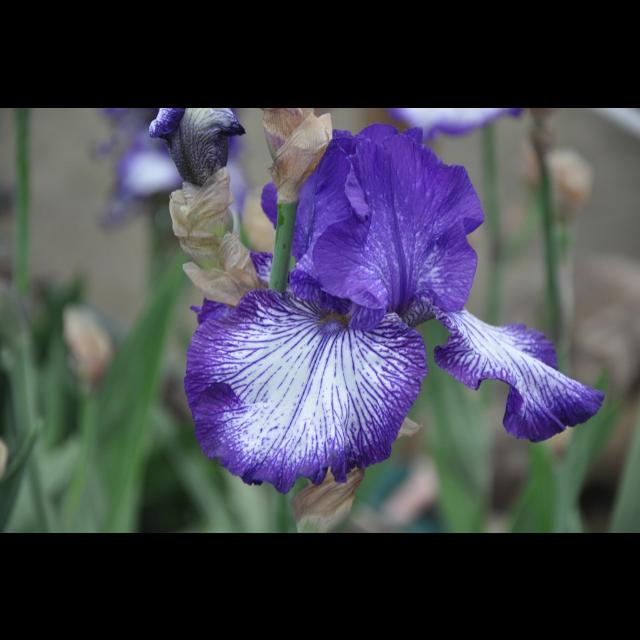Flower: (164, 137, 592, 499)
